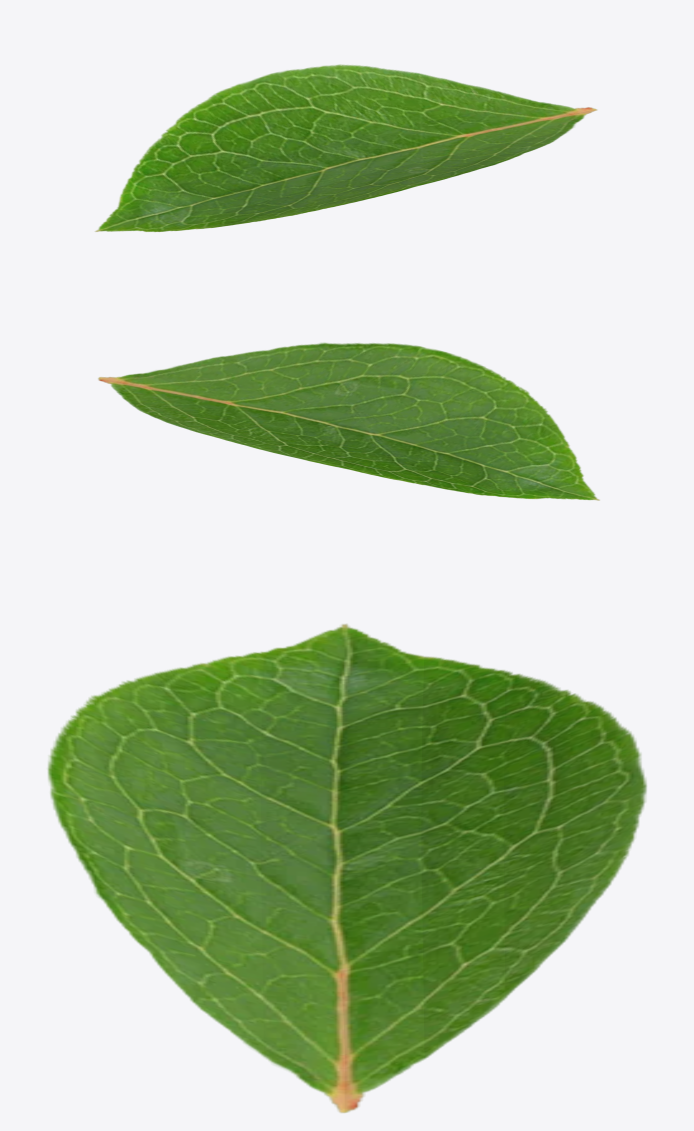
The model's file is leaves.glb.
3 renders of one model, top to bottom at view 1: azimuth 30°, elevation 25°; view 2: azimuth 150°, elevation 25°; view 3: azimuth 270°, elevation 25°, orthographic. The views are drawn at different scales.
Visible parts, largest first — view 1: leaf.006; view 2: leaf.006; view 3: leaf.006.
Boxes of the visible parts, x1,y1,x2,y2 form: leaf.006: [95, 64, 596, 231]; leaf.006: [98, 342, 599, 500]; leaf.006: [47, 624, 646, 1112].
Size of the model in its own units: 0.0286 by 0.00243 by 0.0157.
Materials: 1 (1 with a texture image).
